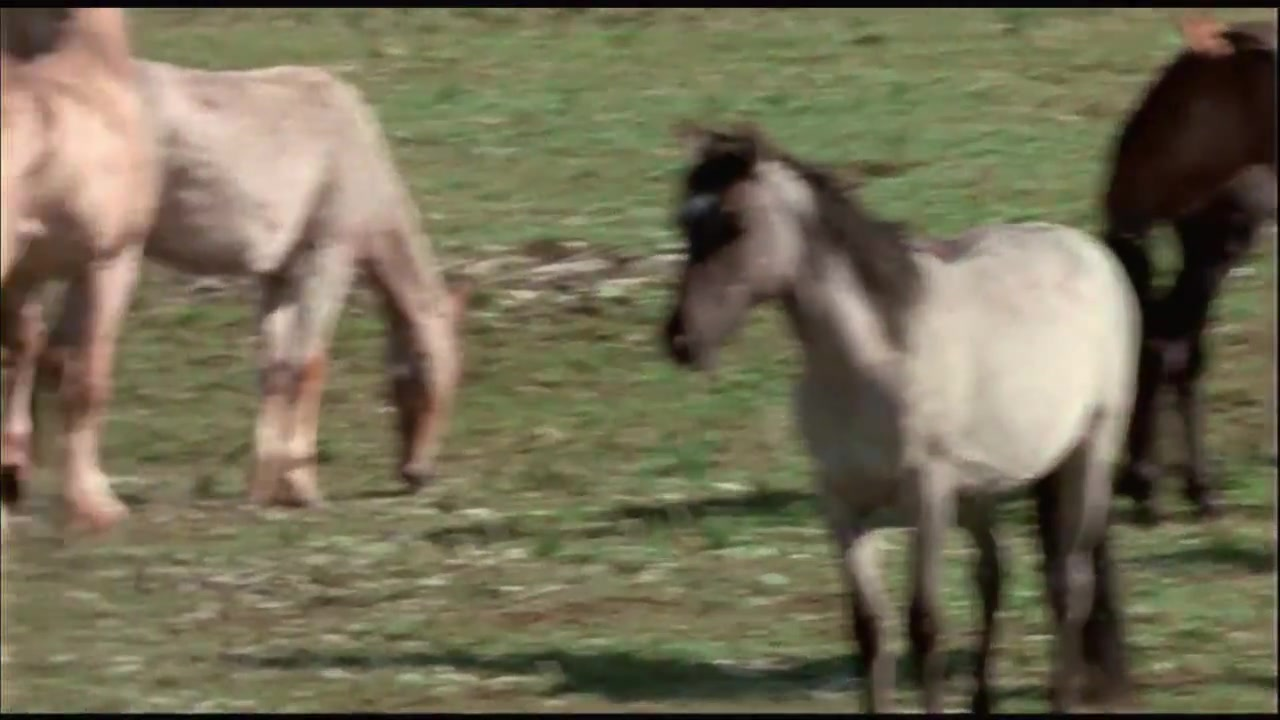horse: (657, 127, 1166, 720)
